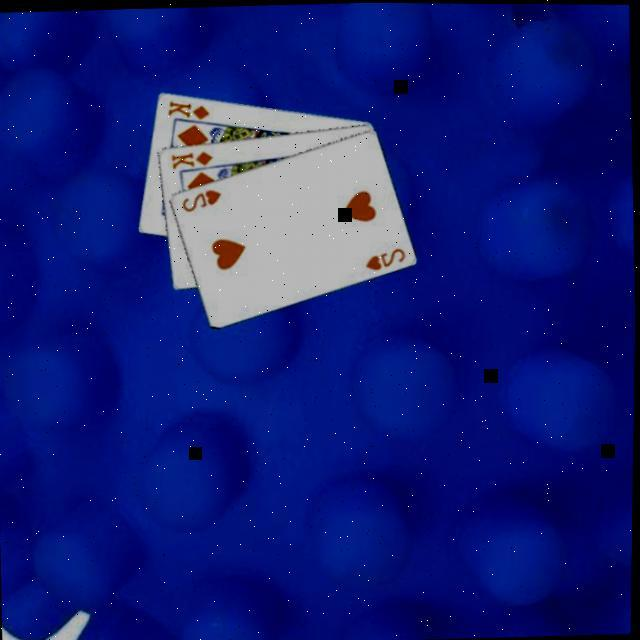2H: (360, 240, 407, 270), (177, 182, 223, 212)
KD: (163, 93, 212, 121), (166, 145, 214, 170)
